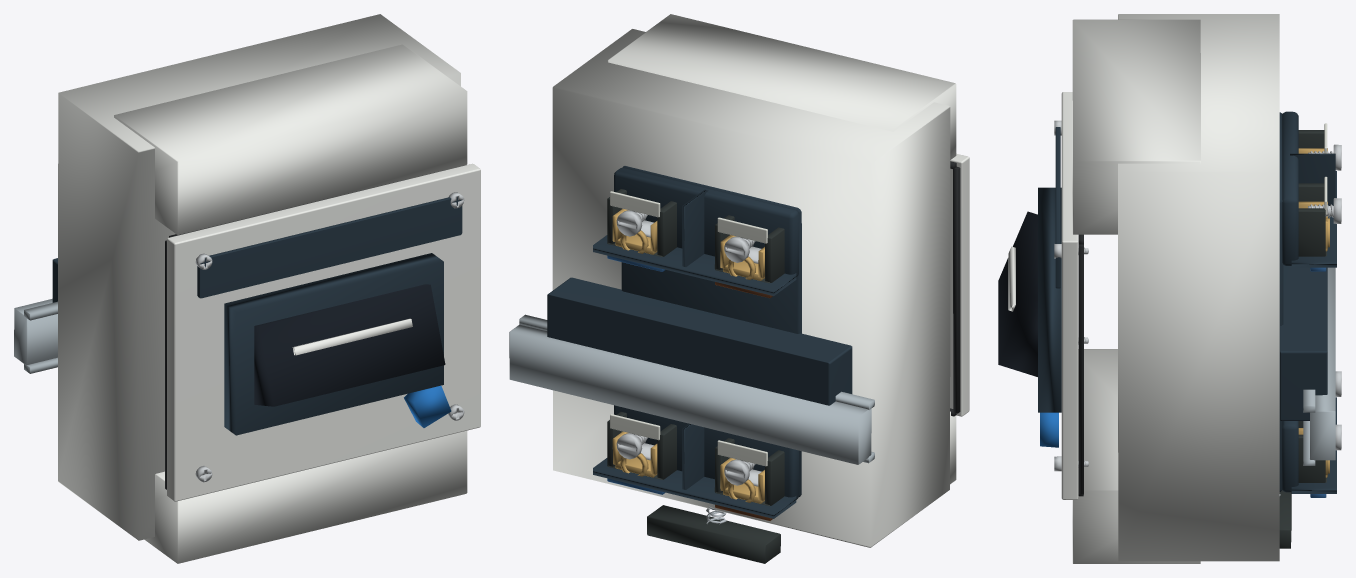
Rendered from rcbo_default.low.glb.
3 views of the same model, side by side, from view 1: azimuth 30°, elevation 25°; view 2: azimuth 150°, elevation 25°; view 3: azimuth 270°, elevation 25° (orthographic).
Parts seen in each view (by area): view 1: part:body · Original 7dbee62c, part:cover, motion:toggle, part:actuator, part:mounting · Original 2a8198d3, part:body.001, detail:enclosure-gasket-and-fixings · Detail zinc plated fix, detail:enclosure-gasket-and-fixings · Detail rubber gasket; view 2: part:body · Original 7dbee62c, part:terminals · Original a463fd81, part:mounting · Original 2a8198d3, part:body, DIN spring slider, part:cover, detail:enclosure-gasket-and-fixings · Detail rubber gasket, detail:terminal-clamp:LIN · Detail moulded engineering polym, detail:terminal-clamp:NOUT · Detail moulded engineering poly, detail:terminal-clamp:LOUT · Detail moulded engineering poly, detail:terminal-clamp:NIN · Detail moulded engineering polym, detail:terminal-clamp:NIN · Detail machined brass (+11 smaller); view 3: part:body · Original 7dbee62c, part:terminals · Original a463fd81, part:cover, part:body, motion:toggle, part:actuator, part:mounting · Original 2a8198d3, detail:terminal-clamp:NIN · Detail moulded engineering polym, detail:enclosure-gasket-and-fixings · Detail rubber gasket, detail:terminal-clamp:NOUT · Detail moulded engineering poly, DIN spring slider, part:body.001 (+2 smaller).
Boxes of the visible parts, <box> form: part:body · Original 7dbee62c: <box>58,14,467,563</box>; part:cover: <box>167,163,480,501</box>; motion:toggle: <box>254,284,445,406</box>; part:actuator: <box>224,253,443,435</box>; part:mounting · Original 2a8198d3: <box>14,298,57,373</box>; part:body.001: <box>404,385,451,427</box>; detail:enclosure-gasket-and-fixings · Detail zinc plated fix: <box>195,192,464,482</box>; detail:enclosure-gasket-and-fixings · Detail rubber gasket: <box>165,167,456,489</box>; part:body · Original 7dbee62c: <box>552,14,956,547</box>; part:terminals · Original a463fd81: <box>593,166,801,518</box>; part:mounting · Original 2a8198d3: <box>509,314,874,464</box>; part:body: <box>547,277,852,405</box>; DIN spring slider: <box>647,505,780,563</box>; part:cover: <box>950,153,969,416</box>; detail:enclosure-gasket-and-fixings · Detail rubber gasket: <box>950,161,960,416</box>; detail:terminal-clamp:LIN · Detail moulded engineering polym: <box>714,215,784,283</box>; detail:terminal-clamp:NOUT · Detail moulded engineering poly: <box>607,412,676,479</box>; detail:terminal-clamp:LOUT · Detail moulded engineering poly: <box>714,438,784,506</box>; detail:terminal-clamp:NIN · Detail moulded engineering polym: <box>607,189,676,256</box>; detail:terminal-clamp:NIN · Detail machined brass: <box>612,209,657,254</box>; part:body · Original 7dbee62c: <box>1072,14,1279,563</box>; part:terminals · Original a463fd81: <box>1279,111,1336,493</box>; part:cover: <box>1055,92,1078,499</box>; part:body: <box>1280,265,1327,420</box>; motion:toggle: <box>998,211,1037,376</box>; part:actuator: <box>1038,187,1061,412</box>; part:mounting · Original 2a8198d3: <box>1303,267,1335,465</box>; detail:terminal-clamp:NIN · Detail moulded engineering polym: <box>1298,183,1326,256</box>; detail:enclosure-gasket-and-fixings · Detail rubber gasket: <box>1078,234,1083,496</box>; detail:terminal-clamp:NOUT · Detail moulded engineering poly: <box>1298,421,1326,482</box>; DIN spring slider: <box>1279,490,1291,548</box>; part:body.001: <box>1040,412,1058,447</box>.
Bounding box in the file's own units: 0.8108 × 0.9358 × 0.6781.
